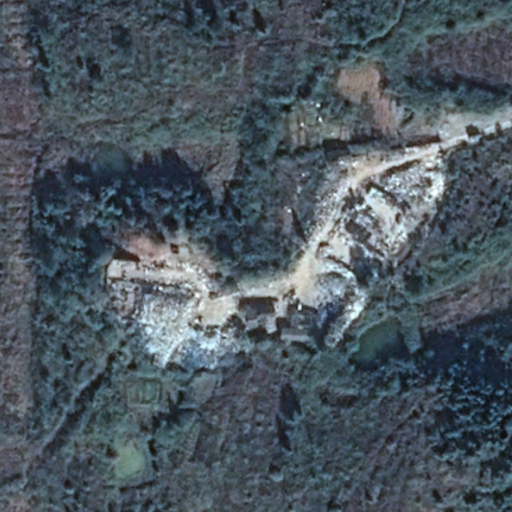msw: (315, 157, 445, 346), (123, 265, 227, 375)
